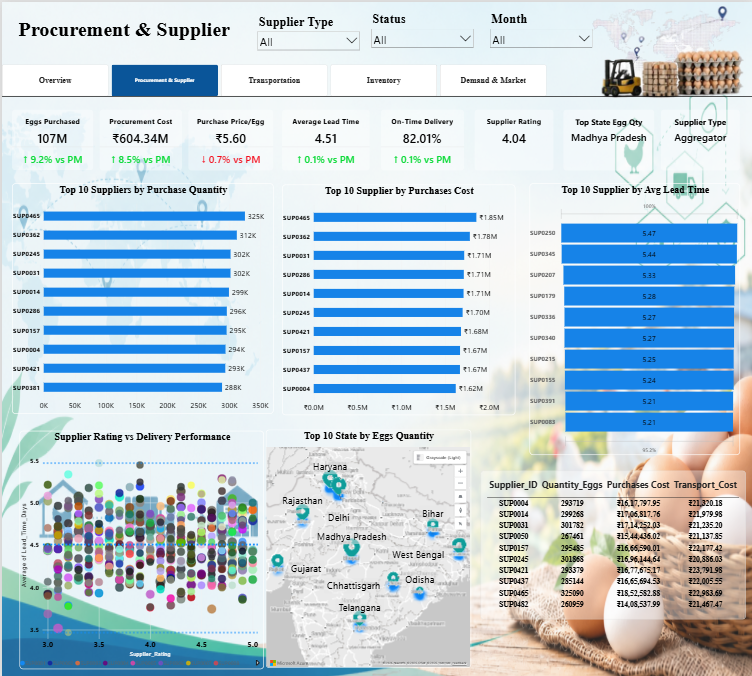

The dashboard page shown, as its layout file describes it:
{"tool":"powerbi","page":{"name":"Procurement & Supplier","canvas":[2000,1800],"ordinal":1},"visuals":[{"type":"shape","box":[0,0,2000,250],"z":0,"group":"g1"},{"type":"tableEx","fields":{"Values":["Purchases.Supplier_ID","Sum(Purchases.Quantity_Eggs)","Purchases.Total Procurement Cost","Sum(Purchases.Transport_Cost)"]},"box":[1278,1250,706,396],"z":0},{"type":"shape","title":"Supply Chain Overview","box":[25,20,598.3,105],"z":1000,"group":"g1"},{"type":"cardVisual","fields":{"Data":["Purchases.Total Procurement Cost"]},"box":[259.1,286.4,220.5,163.6],"z":1000},{"type":"group","id":"g1","title":"Group 3","box":[0,0,2000,255],"z":2000},{"type":"pageNavigator","box":[0,165.7,1454.3,85.7],"z":2000,"group":"g1"},{"type":"slicer","fields":{"Values":["Suppliers.Supplier_Type"]},"box":[675,32.5,282.5,95],"z":3000,"group":"g1"},{"type":"barChart","title":"Top 10 Suppliers by Purchase Quantity ","fields":{"Category":["Purchases.Supplier_ID"],"Y":["Sum(Purchases.Quantity_Eggs)"]},"box":[25,482.5,697.5,615],"z":3000},{"type":"slicer","fields":{"Values":["Purchases.Order_Status"]},"box":[980,25,282.5,95],"z":4000,"group":"g1"},{"type":"cardVisual","fields":{"Data":["Avg(Purchases.Purchase_Price_Per_Egg)"]},"box":[495.5,286.4,227.3,163.6],"z":4000},{"type":"image","box":[1552.5,2.5,447.5,252.5],"z":5000,"group":"g1"},{"type":"barChart","title":"Top 10 Supplier by Purchases Cost","fields":{"Category":["Purchases.Supplier_ID"],"Y":["Purchases.Total Procurement Cost"]},"box":[745,485,622.5,615],"z":5000},{"type":"slicer","fields":{"Values":["Weather.Date.Variation.Date Hierarchy.Month"]},"box":[1295,25,282.5,95],"z":6000,"group":"g1"},{"type":"cardVisual","fields":{"Data":["Avg(Purchases.Lead_Time_Days)"]},"box":[745.5,286.4,234.1,163.6],"z":6000},{"type":"funnel","title":"Top 10 Supplier by Avg Lead Time","fields":{"Category":["Purchases.Supplier_ID"],"Y":["Avg(Purchases.Lead_Time_Days)"]},"box":[1406.8,481.8,561.4,725],"z":7000},{"type":"cardVisual","fields":{"Data":["Purchases.On-Time Delivery % Purchases"]},"box":[1009.1,286.4,222.7,163.6],"z":8000},{"type":"scatterChart","title":"Supplier Rating vs Delivery Performance ","fields":{"Series":["Suppliers.Supplier_ID"],"Size":["Purchases.Supplier Purchase Quantity"],"X":["Suppliers.Supplier_Rating"],"Y":["Avg(Purchases.Lead_Time_Days)"]},"box":[45,1142.5,652.3,636.4],"z":9000},{"type":"cardVisual","fields":{"Data":["Avg(Suppliers.Supplier_Rating)"]},"box":[1261.4,286.4,211.4,163.6],"z":10000},{"type":"azureMap","title":"Top 10 State by Eggs Quantity  ","fields":{"Category":["Suppliers.State"],"Size":["Sum(Purchases.Quantity_Eggs)"]},"box":[704.5,1140.9,547.7,636.4],"z":11000},{"type":"cardVisual","fields":{"Data":["Suppliers.Top State by Egg Quantity"]},"box":[1497.7,286.4,243.2,163.6],"z":12000},{"type":"cardVisual","fields":{"Data":["Min(Suppliers.Supplier_Type)"]},"box":[1756.8,286.4,211.4,163.6],"z":13000},{"type":"cardVisual","fields":{"Data":["Purchases.Total Eggs Purchased"]},"box":[25,286.4,217.5,162.5],"z":14000},{"type":"shape","box":[0,237.5,2000,30],"z":15000}]}

Visuals, with their boxes in screenshot pixels (x1, y1, x2, y2), scaled from the page's 2000x1800 canvas onto the 752x676 screenshot:
shape: 0:0:751:94
tableEx - Purchases.Supplier_ID x Sum(Purchases.Quantity_Eggs): 481:469:746:618
"Supply Chain Overview" shape: 9:8:234:47
cardVisual - Purchases.Total Procurement Cost: 97:108:180:169
"Group 3" group: 0:0:751:96
pageNavigator: 0:62:547:94
slicer - Suppliers.Supplier_Type: 254:12:360:48
"Top 10 Suppliers by Purchase Quantity " barChart: 9:181:272:412
slicer - Purchases.Order_Status: 368:9:475:45
cardVisual - Avg(Purchases.Purchase_Price_Per_Egg): 186:108:272:169
image: 584:1:751:96
"Top 10 Supplier by Purchases Cost" barChart: 280:182:514:413
slicer - Weather.Date.Variation.Date Hierarchy.Month: 487:9:593:45
cardVisual - Avg(Purchases.Lead_Time_Days): 280:108:368:169
"Top 10 Supplier by Avg Lead Time" funnel: 529:181:740:453
cardVisual - Purchases.On-Time Delivery % Purchases: 379:108:463:169
"Supplier Rating vs Delivery Performance " scatterChart: 17:429:262:668
cardVisual - Avg(Suppliers.Supplier_Rating): 474:108:554:169
"Top 10 State by Eggs Quantity  " azureMap: 265:428:471:667
cardVisual - Suppliers.Top State by Egg Quantity: 563:108:655:169
cardVisual - Min(Suppliers.Supplier_Type): 661:108:740:169
cardVisual - Purchases.Total Eggs Purchased: 9:108:91:169
shape: 0:89:751:100
